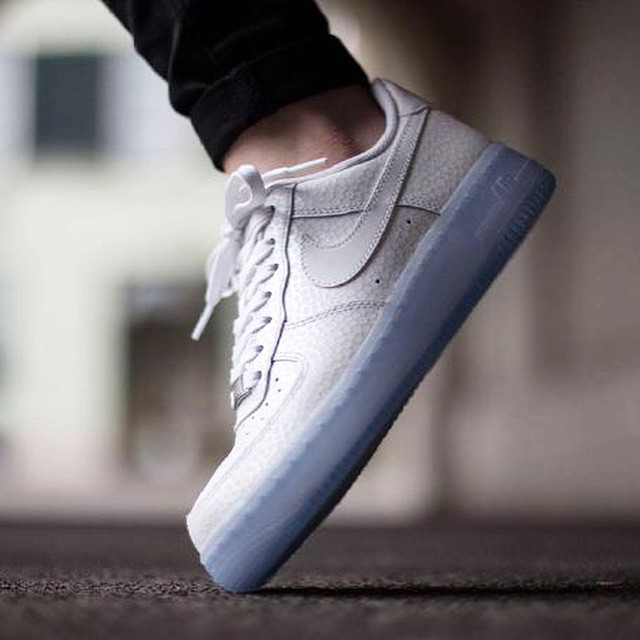sneaker: (162, 59, 570, 618)
